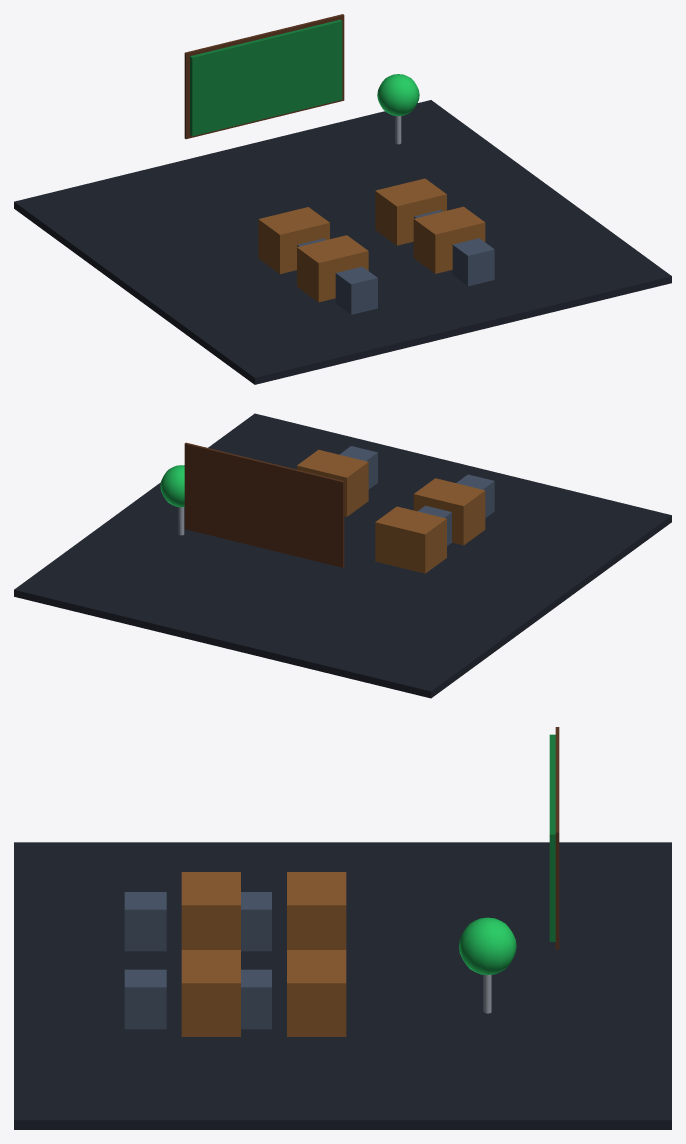
Rendered from school.glb.
3 renders of one model, top to bottom at view 1: azimuth 30°, elevation 25°; view 2: azimuth 150°, elevation 25°; view 3: azimuth 270°, elevation 25°, orthographic. The views are drawn at different scales.
Size of the model in its own units: 5 by 1.77 by 5.
